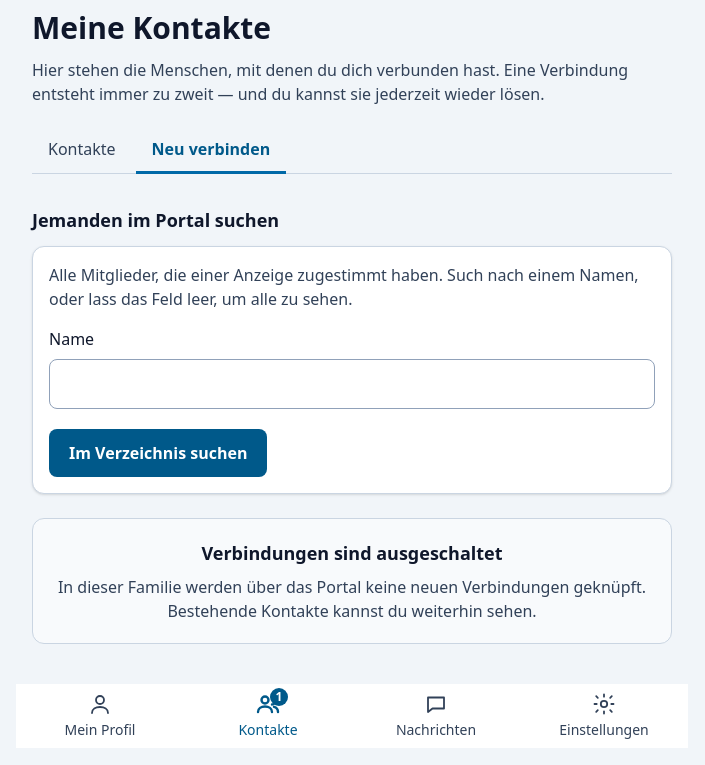
my contacts › says so when the family has switched connections off
Expected: the text "Verbindungen sind ausgeschaltet" is shown, [201, 541, 502, 565]
The list stays: a member must still be able to see what they agreed to.
Click the tab "Kontakte": [82, 150] box [32, 126, 132, 174]
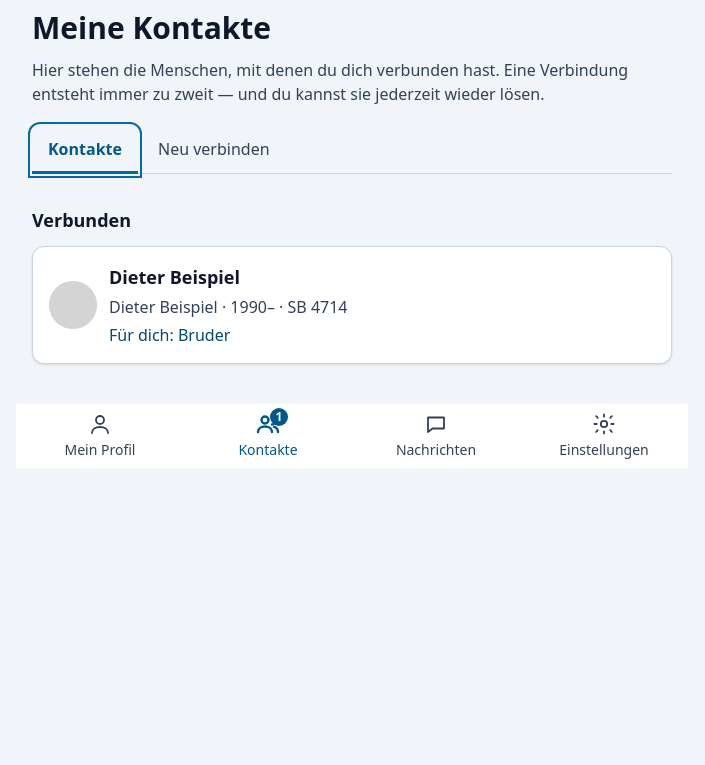
Result: the link "Dieter Beispiel" is shown at [32, 246, 672, 364]
